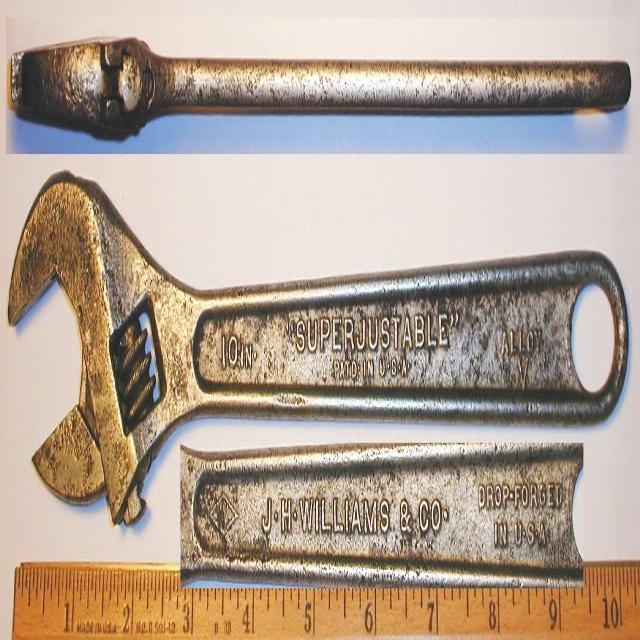wrench: (6, 154, 455, 552)
